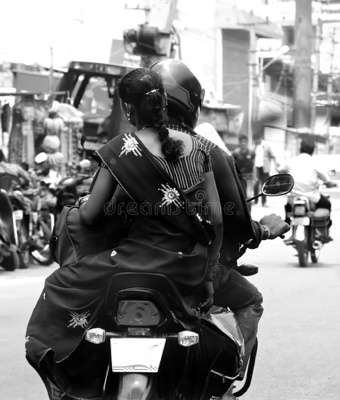helmet: (151, 57, 209, 133)
